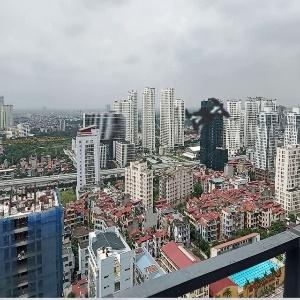drone: (156, 66, 264, 174)
